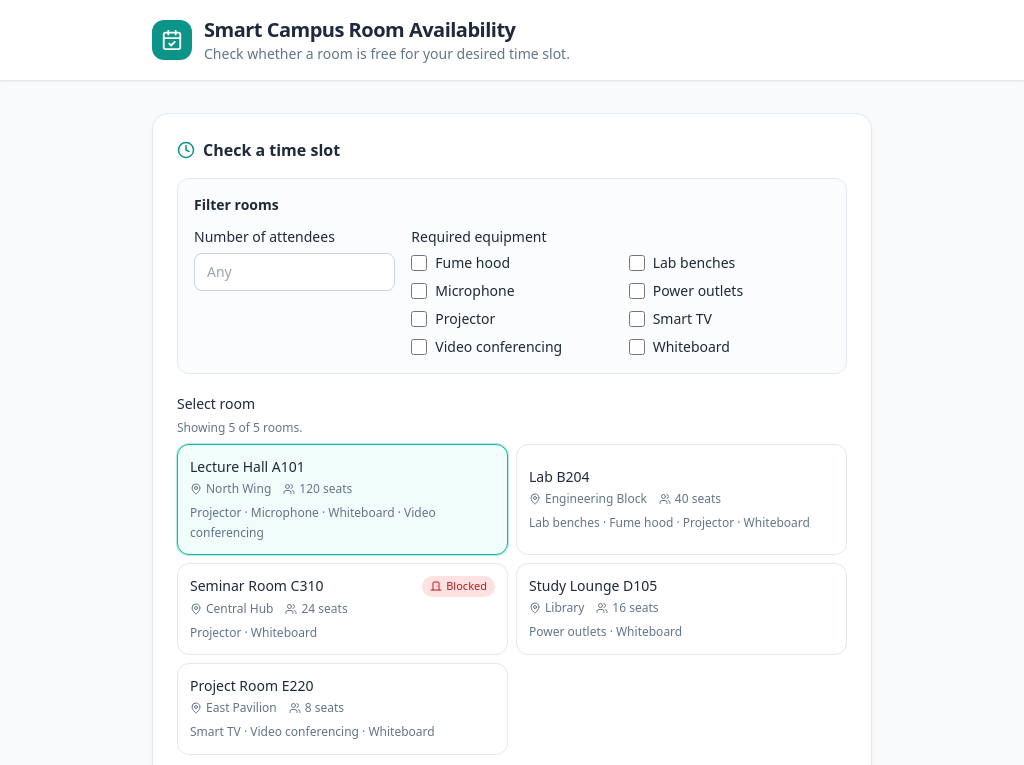
Test: App page integration › U7: multiple equipment requirements must all match
This screenshot has width=1024, height=765.
Click the checkbox labelled "Projector" at (419, 319), box x1=411 y1=311 x2=427 y2=327
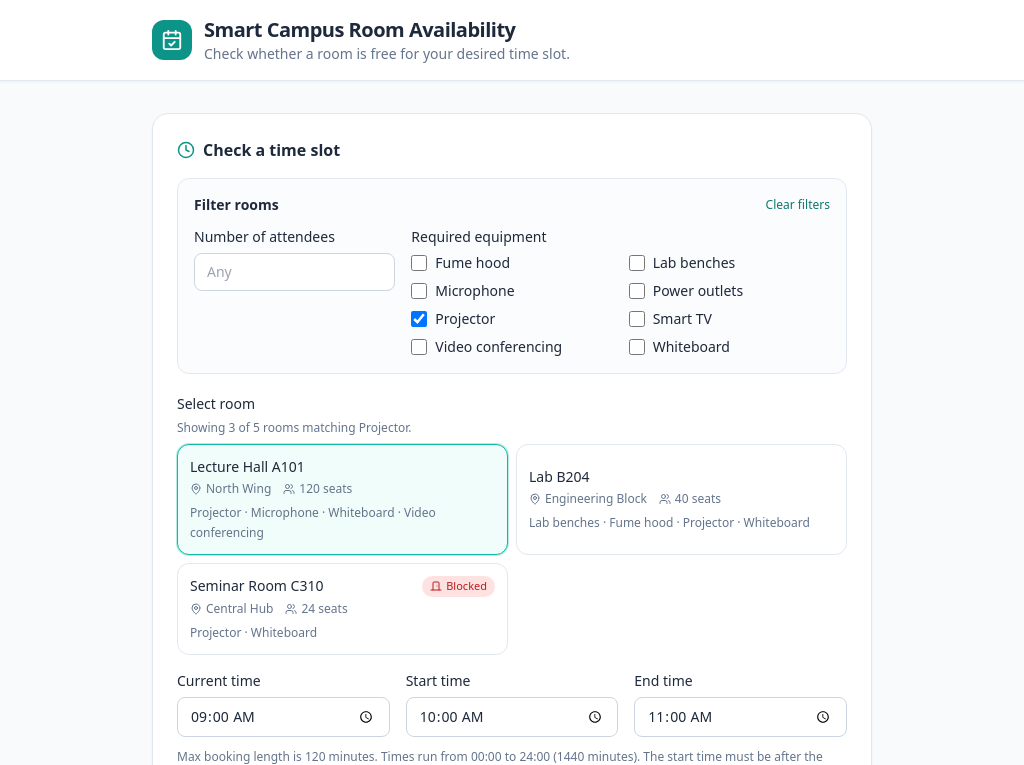
Click the checkbox labelled "Microphone" at (419, 291), box x1=411 y1=283 x2=427 y2=299
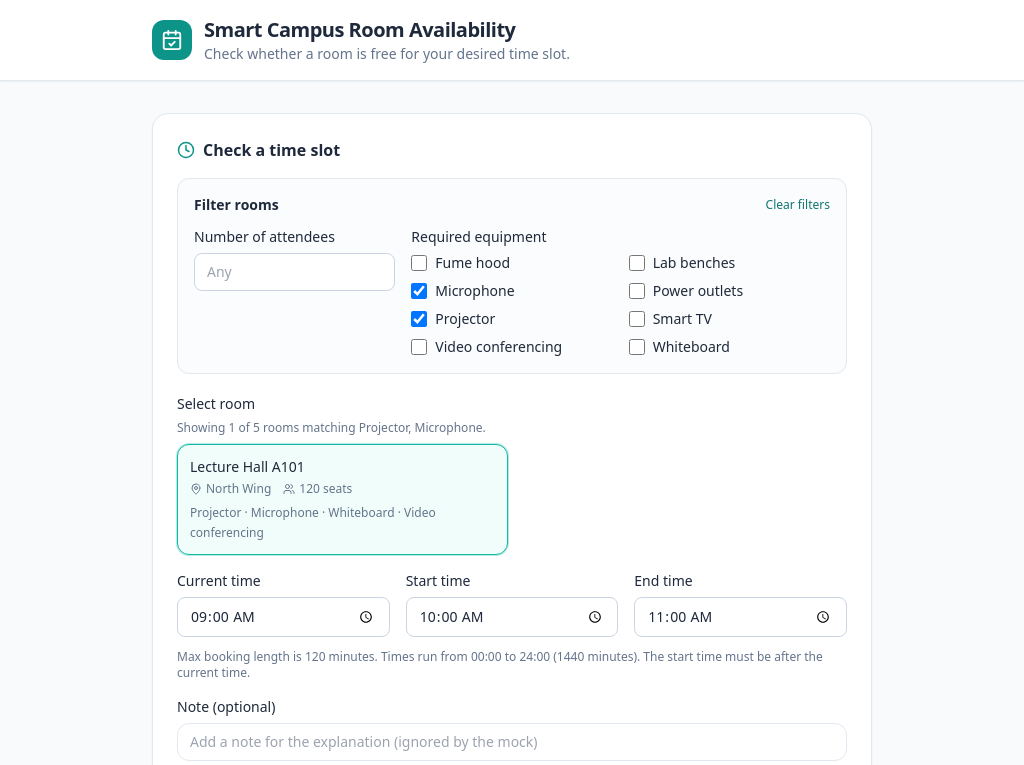
Expected: the button "Lecture Hall A101" is shown, x1=177 y1=444 x2=508 y2=555
Now the button "Lab B204" is gone
